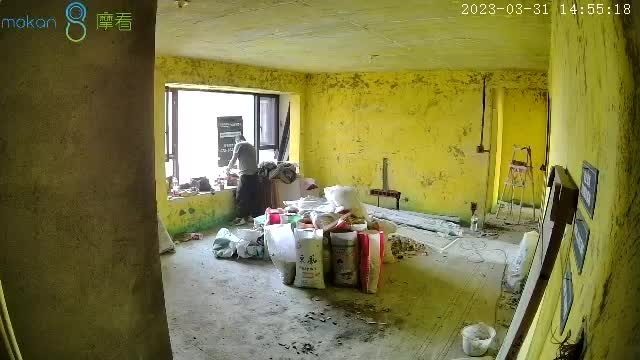people: (229, 135, 258, 225)
window: (164, 87, 280, 190)
